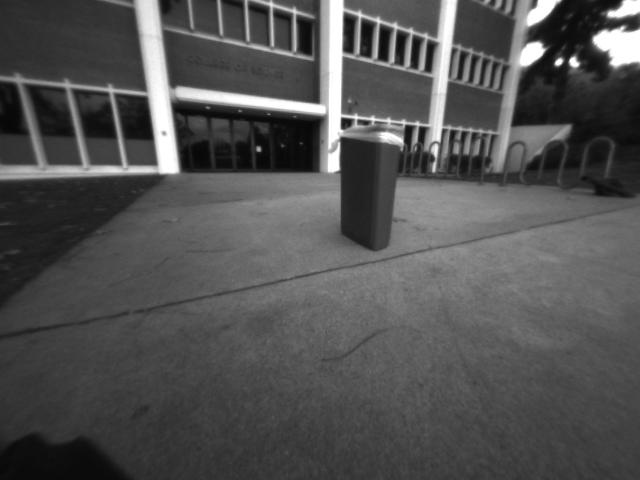trashcan_open: (336, 124, 400, 252)
